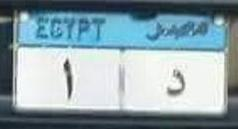1: (60, 57, 78, 102)
daal: (163, 64, 188, 100)
